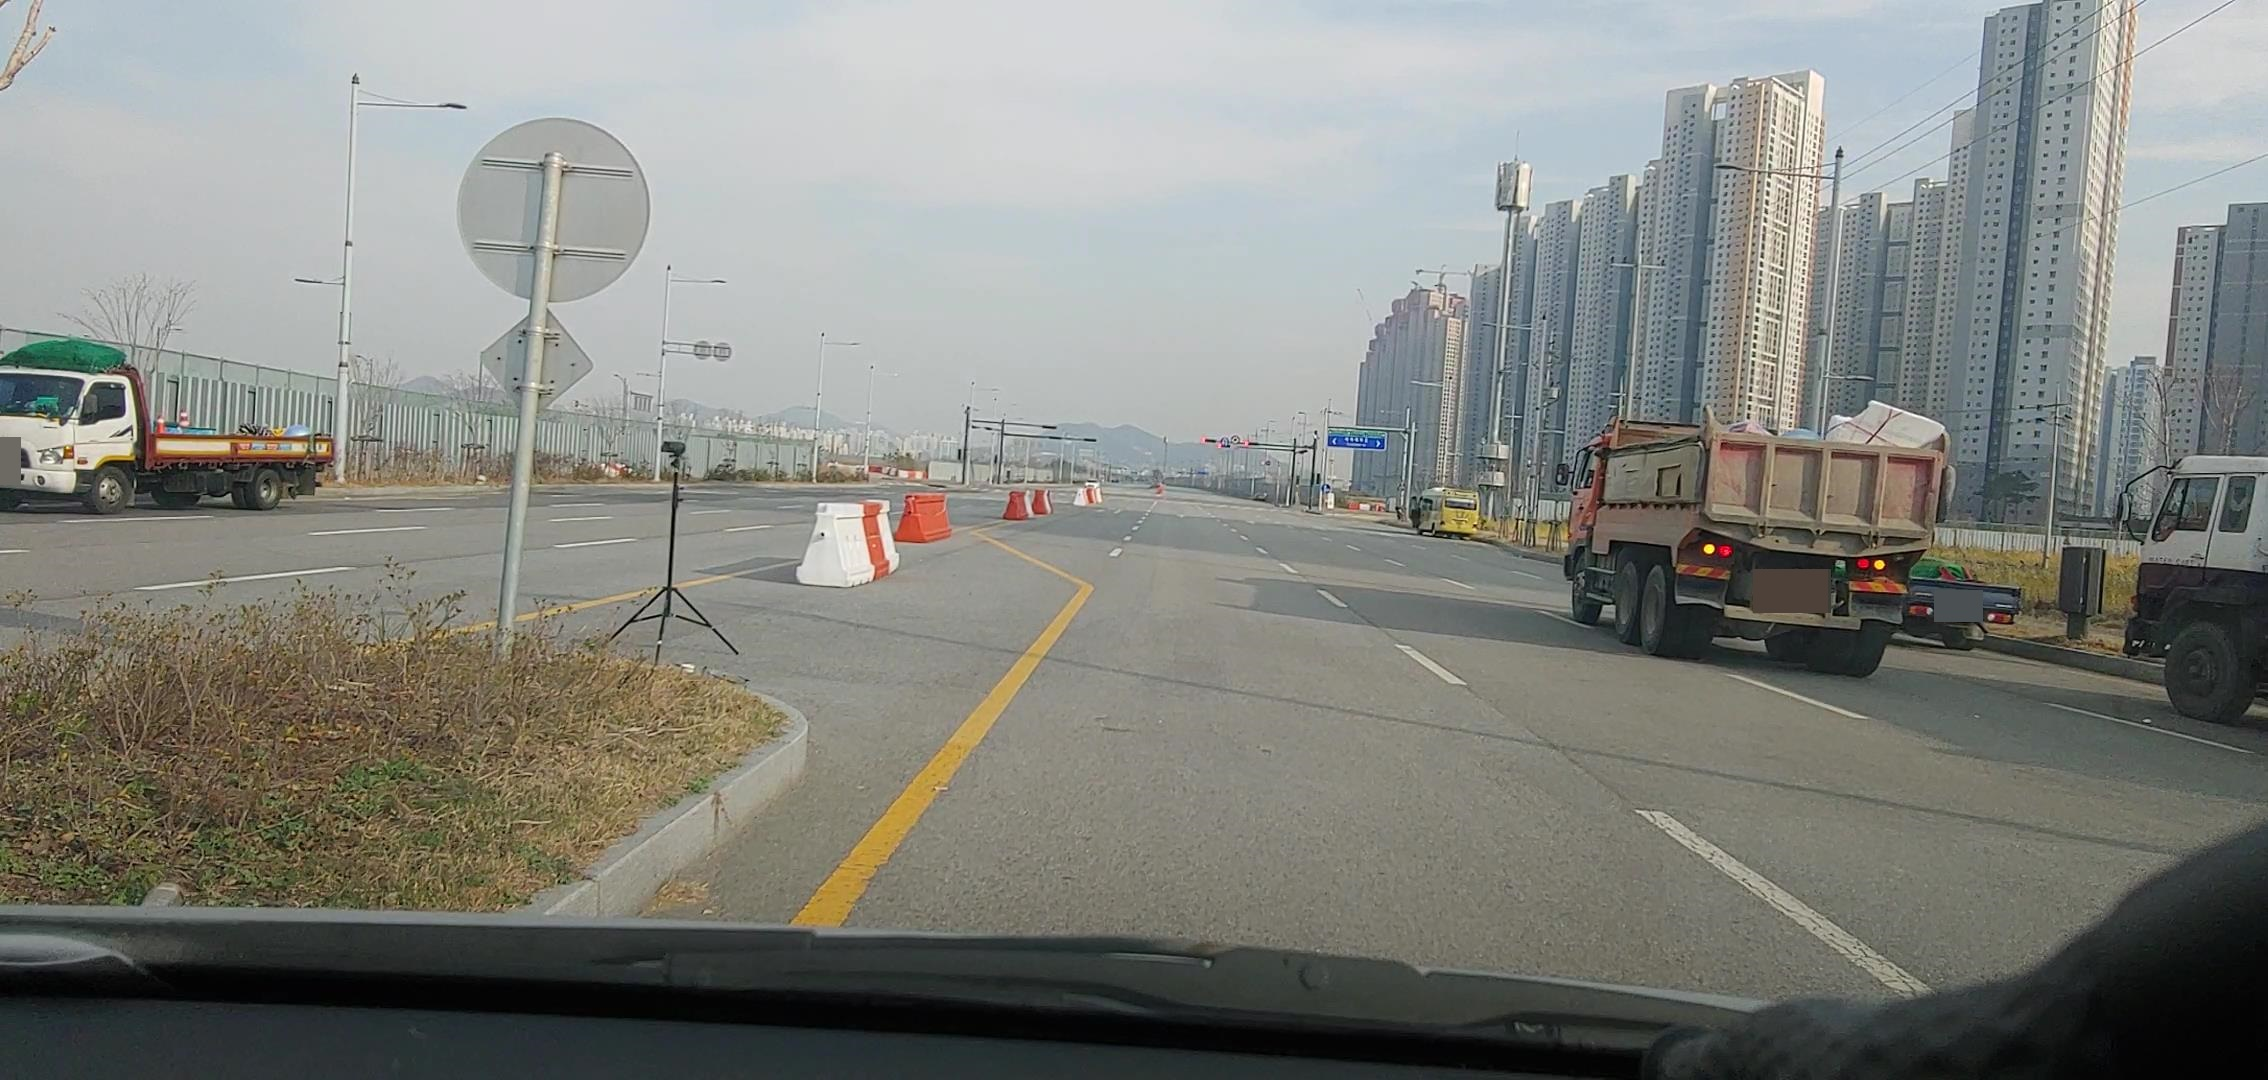불법차량: (1556, 400, 1956, 678)
